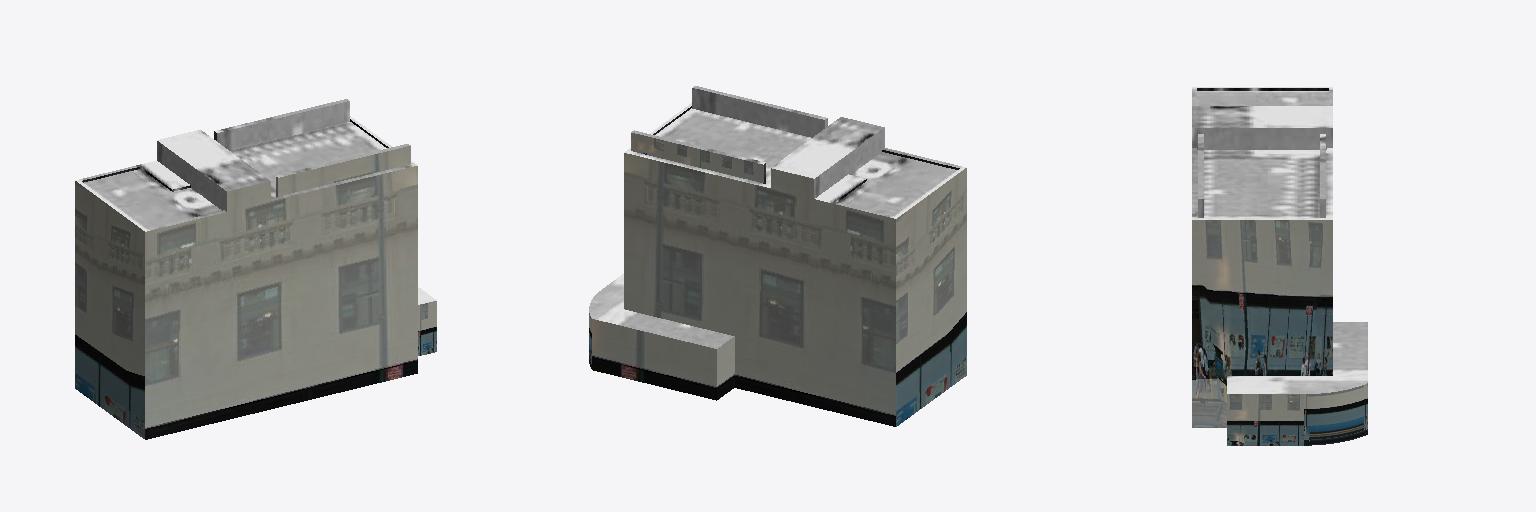
The picture shows the model from 3 angles: view 1: azimuth 30°, elevation 25°; view 2: azimuth 150°, elevation 25°; view 3: azimuth 270°, elevation 25°; orthographic projection.
Bounding box in the file's own units: 57347 × 40500 × 28251.
Materials: 9 (2 with a texture image).